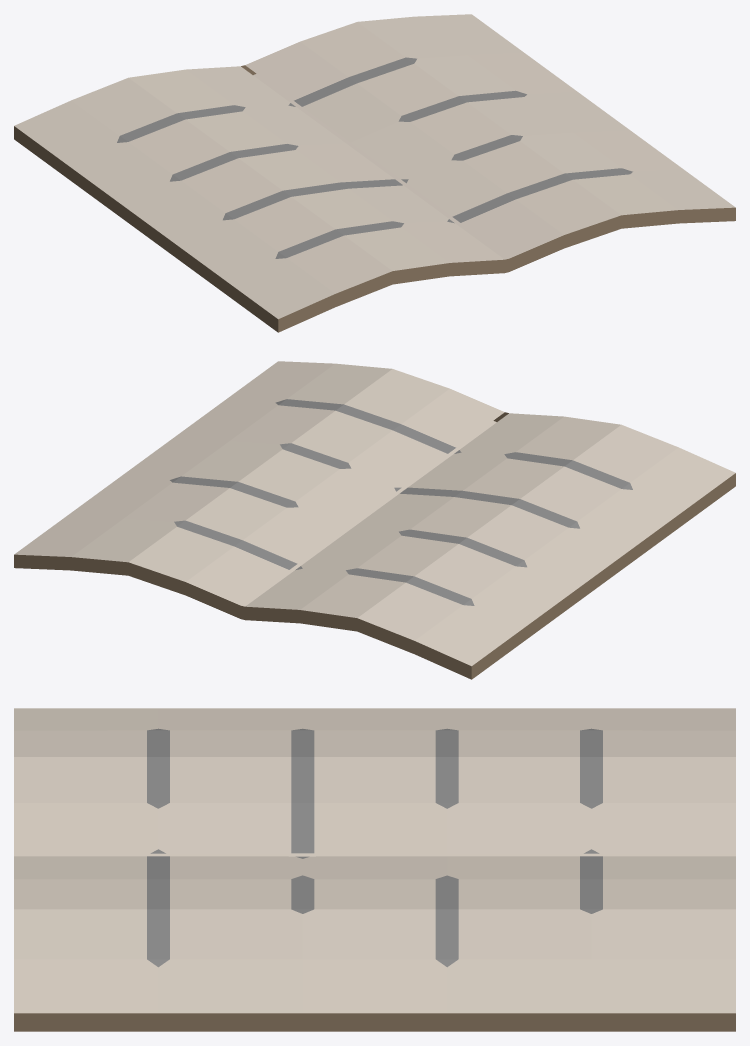
Rendered from 购物目录.glb.
3 renders of one model, top to bottom at view 1: azimuth 30°, elevation 25°; view 2: azimuth 150°, elevation 25°; view 3: azimuth 270°, elevation 25°, orthographic. The views are drawn at different scales.
Parts seen in each view (by area): view 1: 购物目录; view 2: 购物目录; view 3: 购物目录.
Boxes of the visible parts, bbox=[...] form: 购物目录: bbox=[14, 14, 735, 332]; 购物目录: bbox=[14, 361, 735, 679]; 购物目录: bbox=[14, 708, 735, 1031].
Size of the model in its own units: 3.94 by 0.2778 by 3.94.
